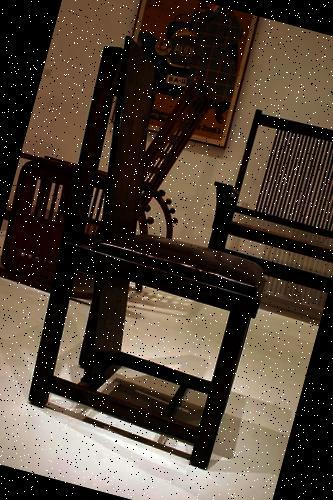Silla: (7, 35, 315, 470)
